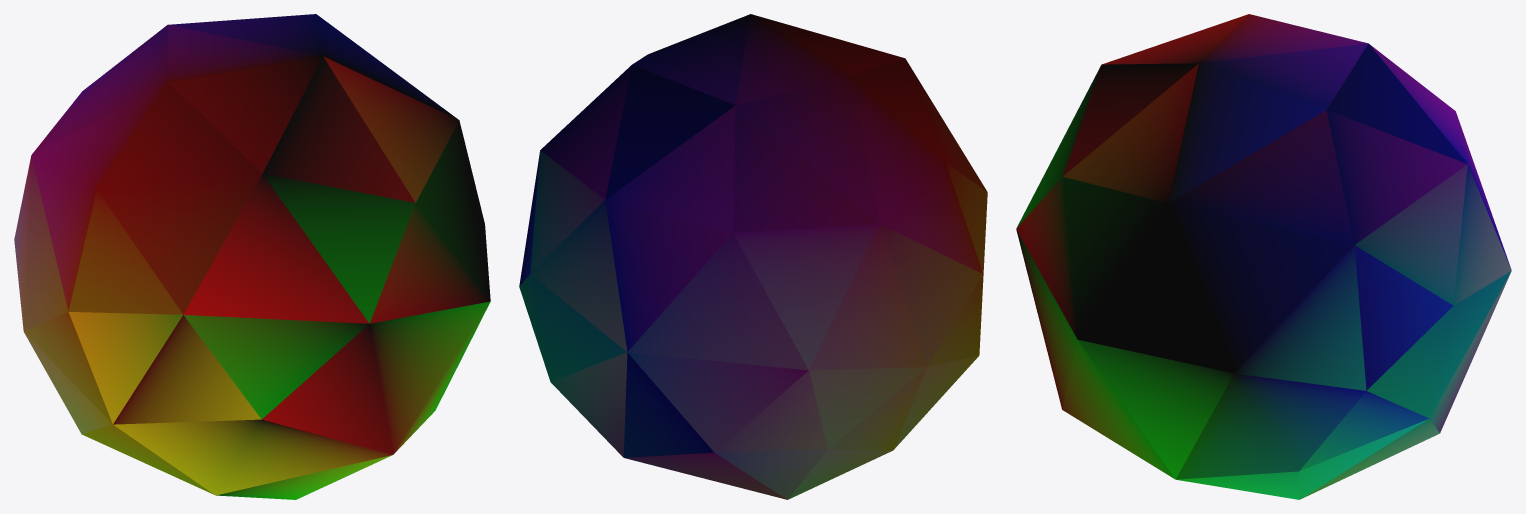
Rendered from info_icon_V2.glb.
The picture shows the model from 3 angles, left to right: view 1: azimuth 30°, elevation 25°; view 2: azimuth 150°, elevation 25°; view 3: azimuth 270°, elevation 25°; orthographic projection. The views are drawn at different scales.
Visible parts, largest first — view 1: icon; view 2: icon; view 3: icon.
Part boxes in pixels (x1,y1,x2,y2): icon: [14, 14, 490, 499]; icon: [519, 14, 987, 499]; icon: [1016, 14, 1511, 499].
Bounding box in the file's own units: 0.8442 × 0.8182 × 0.8564.
